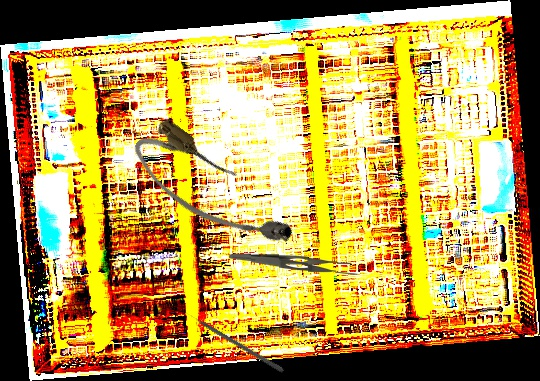Cannula: (123, 112, 302, 271)
Dressing Forceps: (228, 252, 359, 278)
Pusher: (182, 308, 286, 374)
